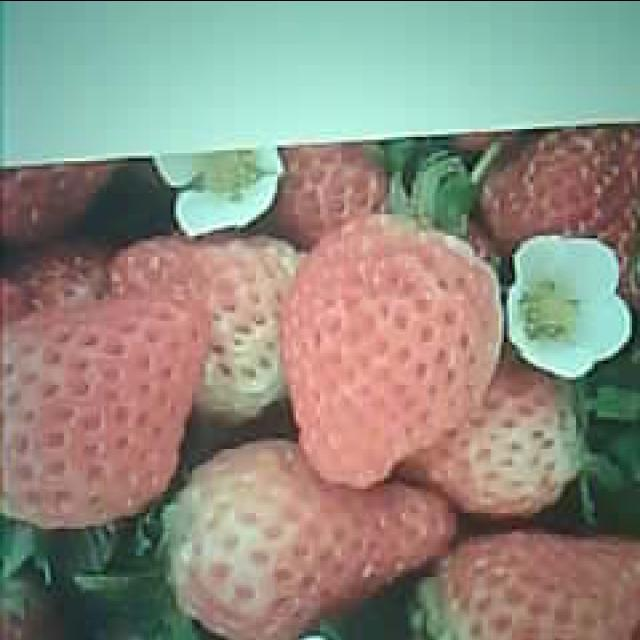strawberry: (286, 217, 502, 479), (178, 438, 452, 638), (0, 292, 197, 524)
